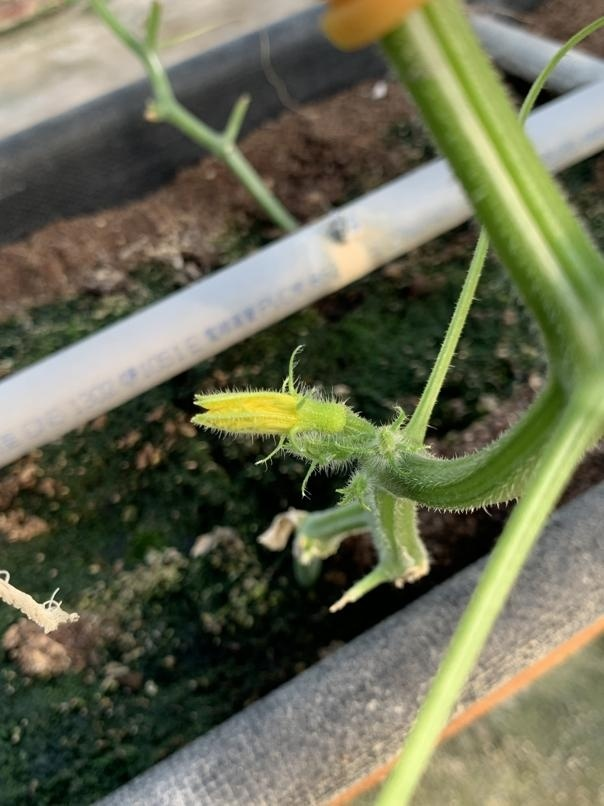bud: (190, 384, 376, 464)
